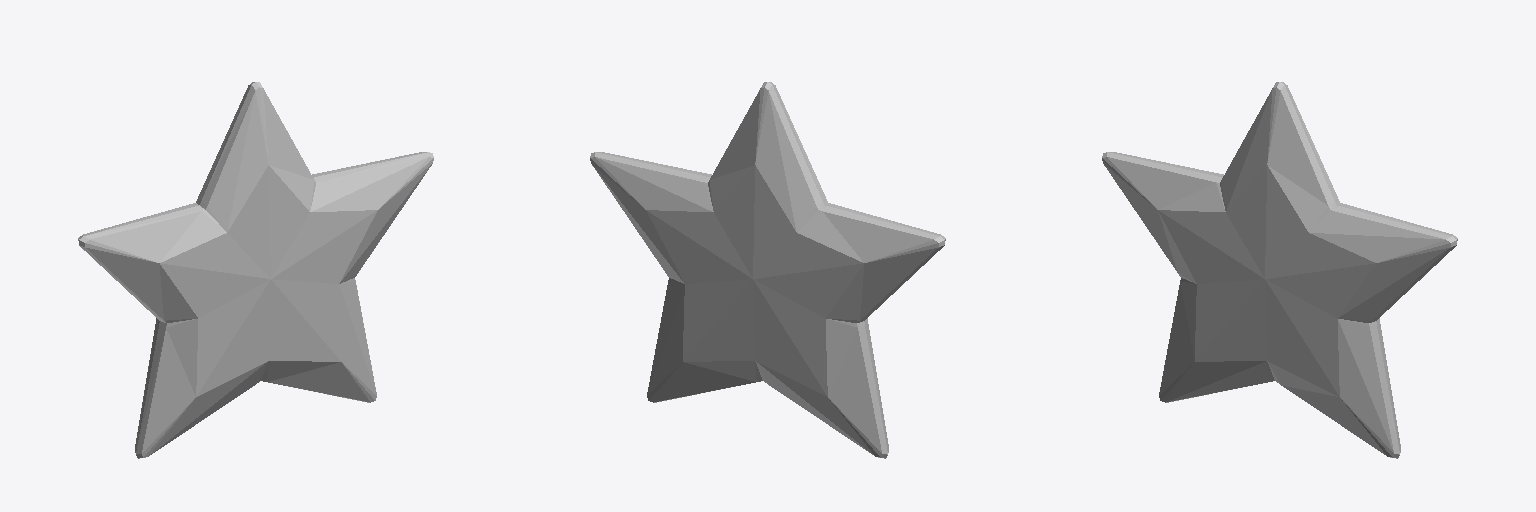
Rendered from star.obj.
3 views of the same model, side by side, from view 1: azimuth 30°, elevation 25°; view 2: azimuth 150°, elevation 25°; view 3: azimuth 330°, elevation 25° (orthographic).
Visible parts, largest first — view 1: default; view 2: default; view 3: default.
Part boxes in pixels (x1,y1,x2,y2): default: (78, 82, 433, 458); default: (590, 82, 945, 458); default: (1102, 82, 1457, 458).
Bounding box in the file's own units: 45 × 42.33 × 6.57.